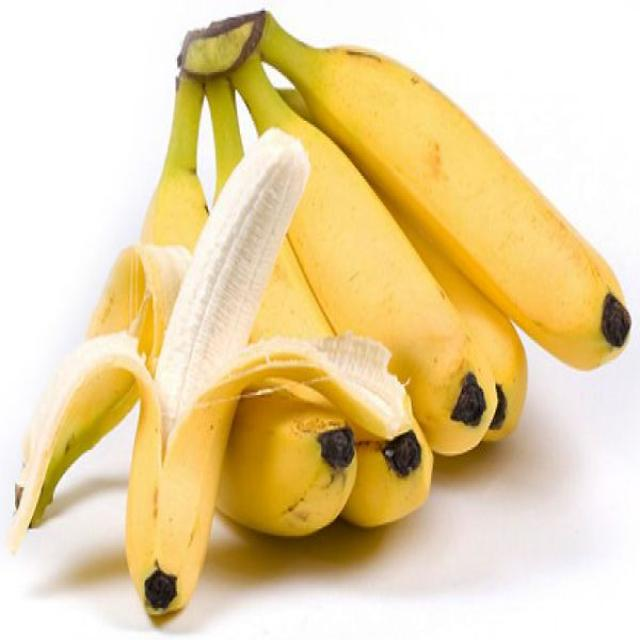banana: (9, 132, 411, 613), (248, 13, 631, 368), (127, 132, 409, 613), (232, 57, 497, 454), (87, 79, 206, 373), (387, 201, 526, 440), (390, 207, 527, 440), (219, 386, 431, 535), (218, 385, 359, 535), (218, 388, 356, 535), (141, 77, 207, 251)
